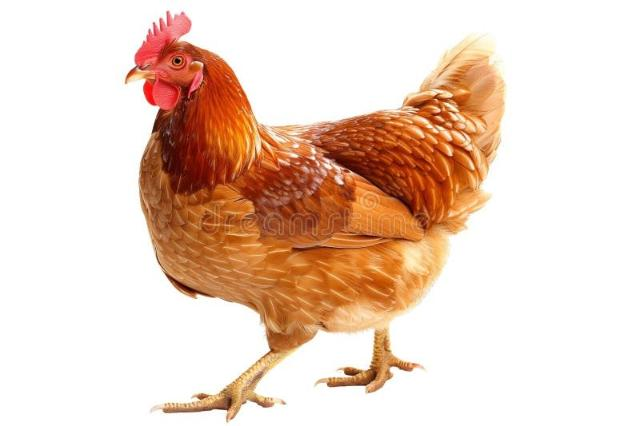Chicken: (123, 11, 506, 424)
